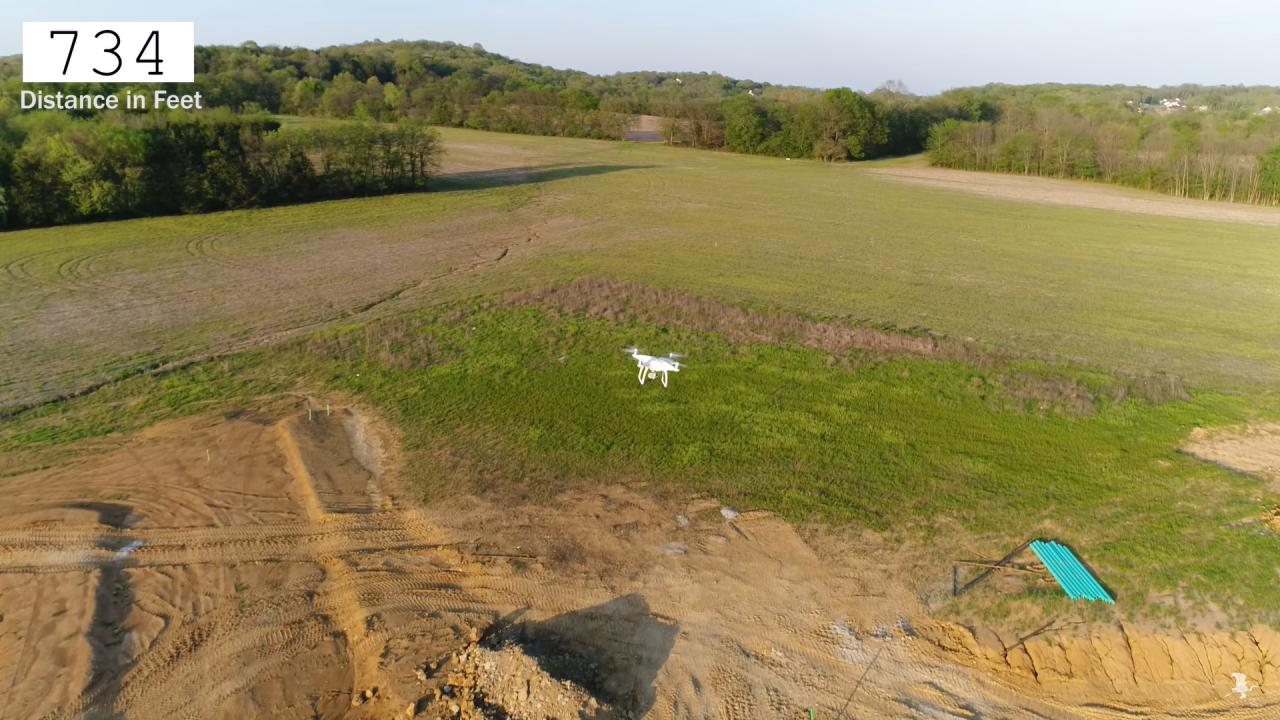Drone: (614, 341, 698, 396)
